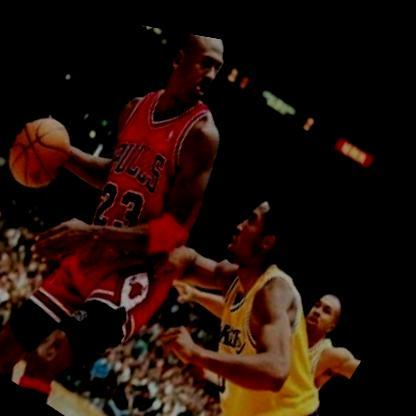basketball: (0, 91, 98, 212)
